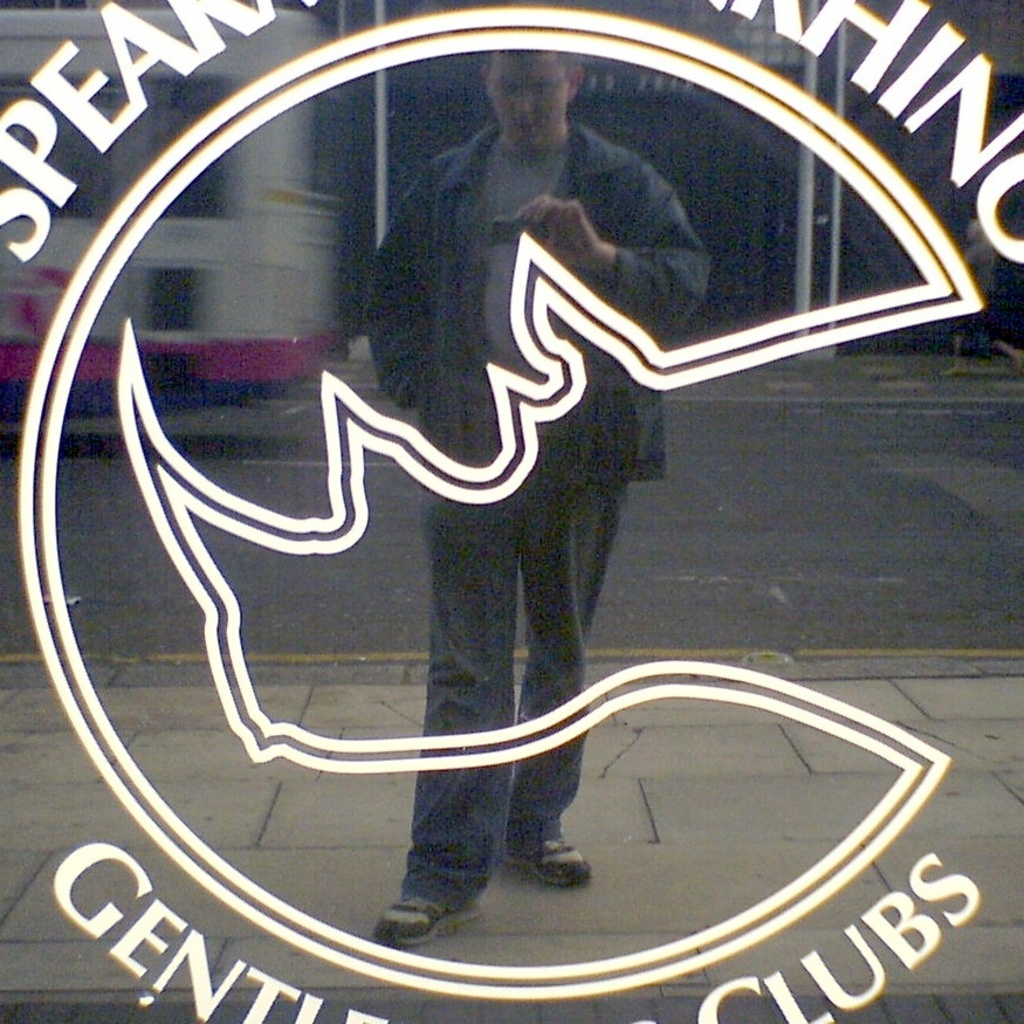Footwear: (367, 895, 481, 950), (508, 844, 595, 892)
